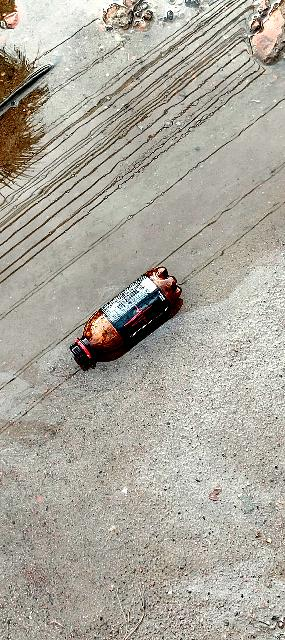bottle: (57, 269, 215, 369)
